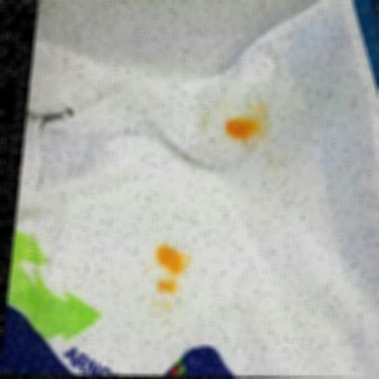kimchi: (223, 118, 265, 147), (156, 248, 184, 274), (158, 277, 180, 293), (152, 298, 169, 312), (258, 103, 275, 114), (147, 268, 150, 274)
